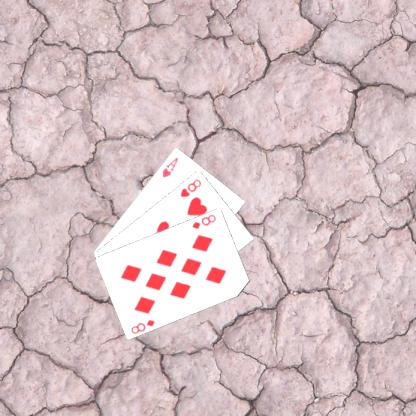8D: (190, 212, 218, 230), (128, 317, 156, 335)
8H: (178, 176, 202, 198)
AH: (159, 154, 180, 179)
